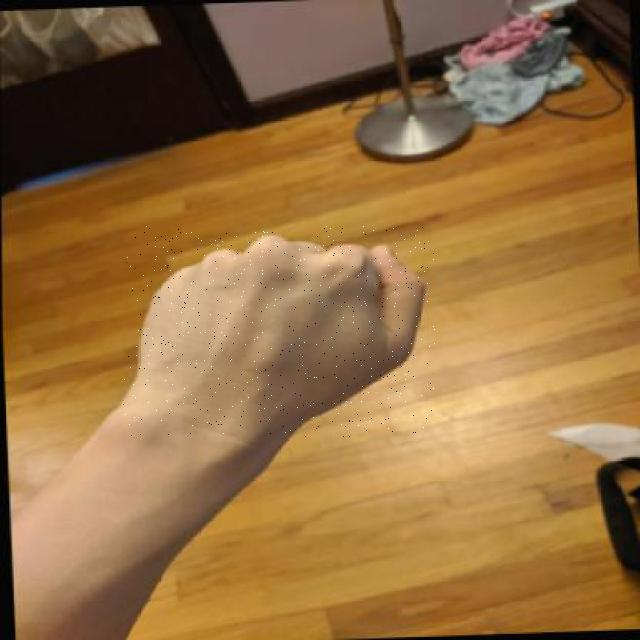A: (123, 226, 435, 437)
